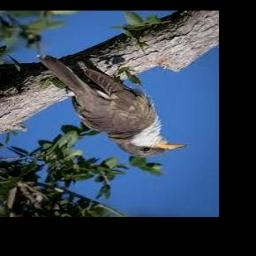Cuckoo: (37, 54, 188, 157)
